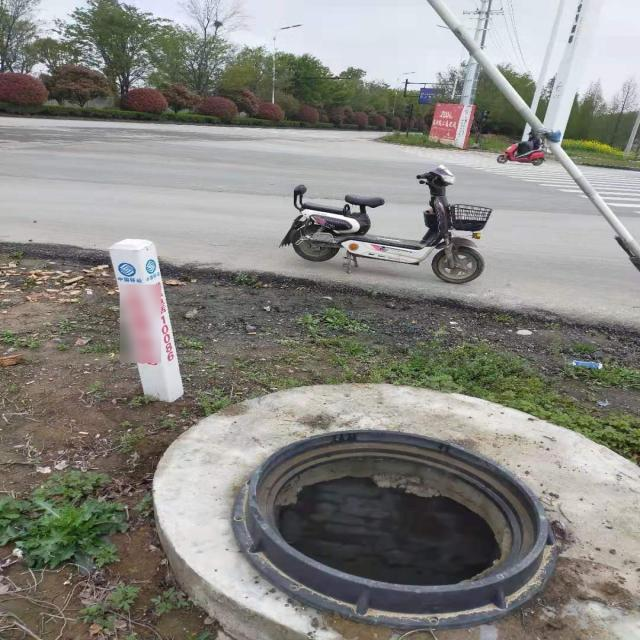Faulty: (228, 430, 561, 632)
